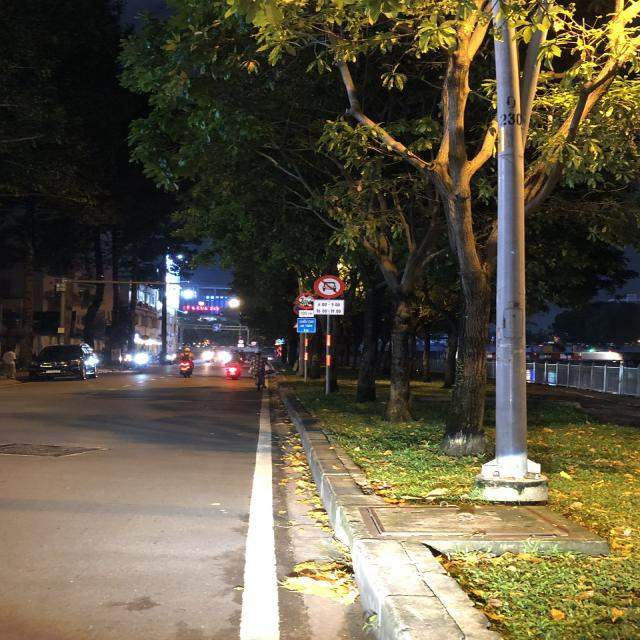Bien bao cam xe oto: (310, 274, 348, 300)
